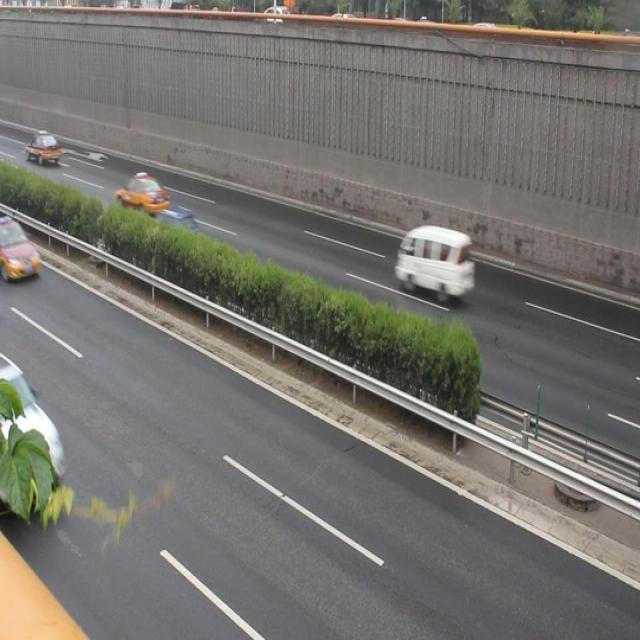car: (140, 208, 202, 252), (114, 175, 169, 220), (1, 222, 41, 280)
truck: (392, 224, 472, 296)
